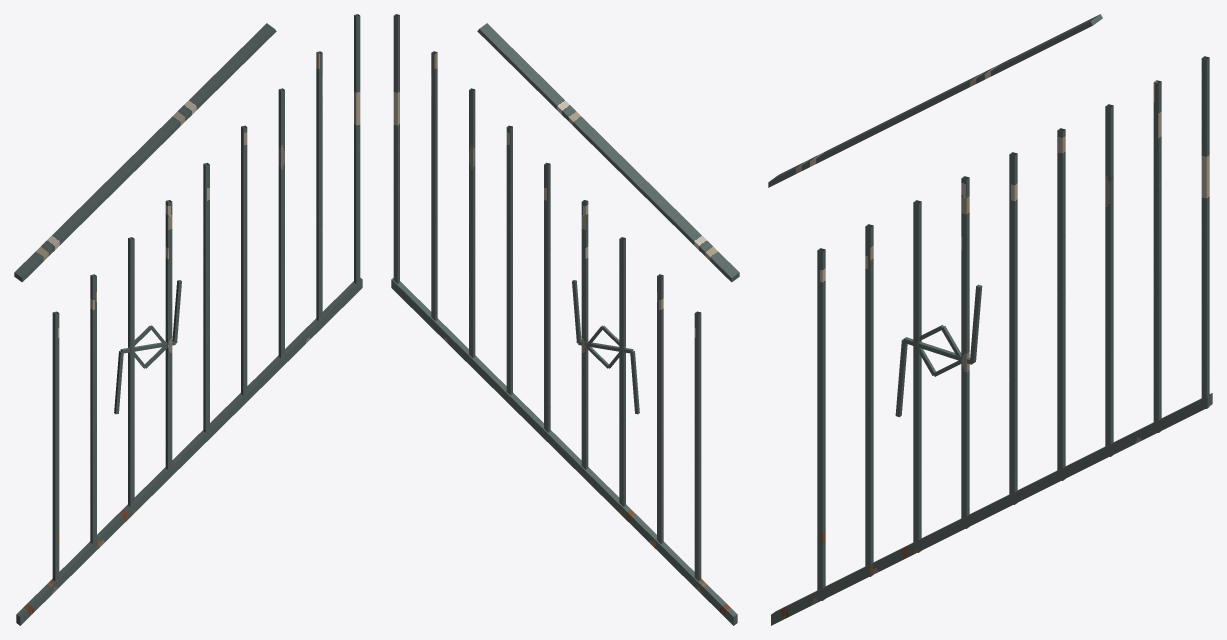
Rendered from LanCan_Xien_T2.glb.
The picture shows the model from 3 angles, left to right: view 1: azimuth 30°, elevation 25°; view 2: azimuth 150°, elevation 25°; view 3: azimuth 330°, elevation 25°; orthographic projection. The views are drawn at different scales.
Parts seen in each view (by area): view 1: geometry_0; view 2: geometry_0; view 3: geometry_0.
Boxes of the visible parts, x1,y1,x2,y2 form: geometry_0: [14, 14, 362, 625]; geometry_0: [391, 14, 739, 625]; geometry_0: [768, 14, 1212, 625].
Bounding box in the file's own units: 1 × 1.5 × 0.04.
1 material, 1 textured.
